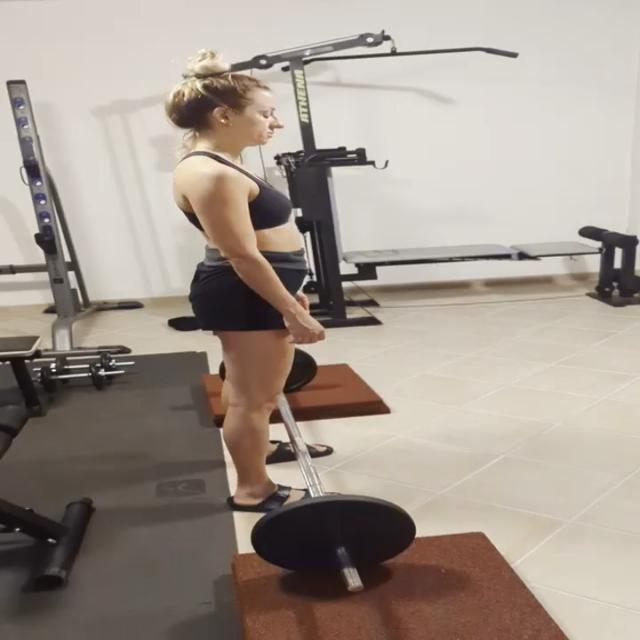barbell: (249, 490, 420, 600)
